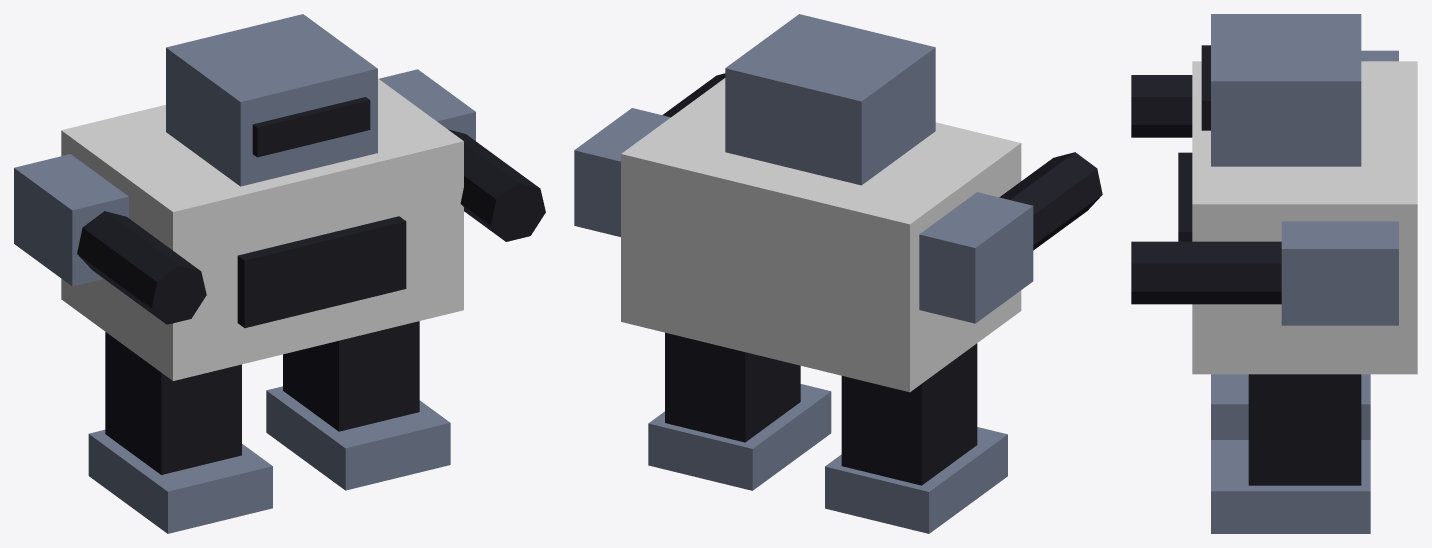
File: Enemy_walker.fbx
3 renders of one model, left to right at view 1: azimuth 30°, elevation 25°; view 2: azimuth 150°, elevation 25°; view 3: azimuth 270°, elevation 25°, orthographic.
Parts seen in each view (by area): view 1: Enemy_walker; view 2: Enemy_walker; view 3: Enemy_walker.
Boxes of the visible parts, x1,y1,x2,y2 form: Enemy_walker: [14, 14, 545, 533]; Enemy_walker: [574, 14, 1102, 533]; Enemy_walker: [1131, 14, 1417, 533].
Bounding box in the file's own units: 1 × 0.98 × 0.61.
